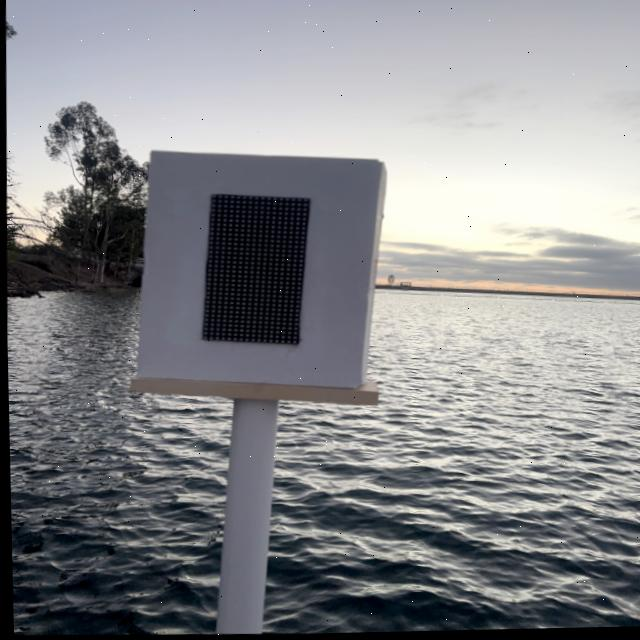led: (163, 164, 351, 380)
